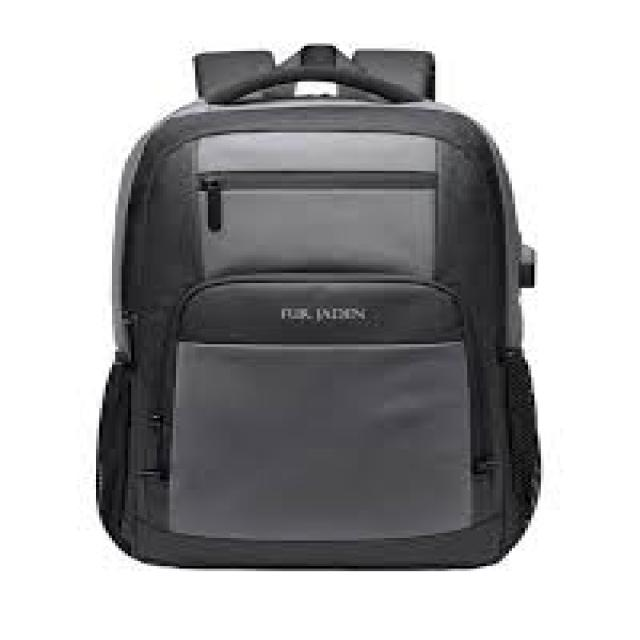backpack: (94, 42, 542, 570)
